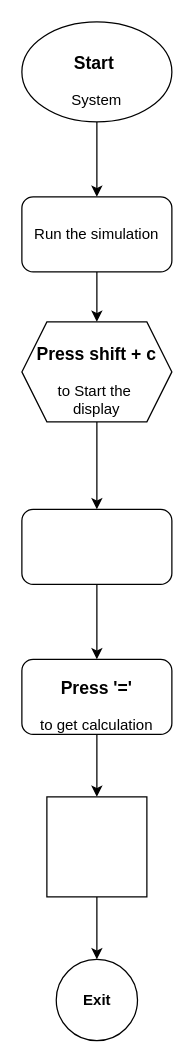
The diagram is 194 pixels wide and 1063 high, and some of its shapes have lost their labels. The shapes that lost their labels are listed below. From the top down, each one's box as (x1, y1, x2, y2) in pixels, then its label:
(21, 508, 172, 584): Enter the numbers and expression
(46, 796, 147, 897): Result Display
